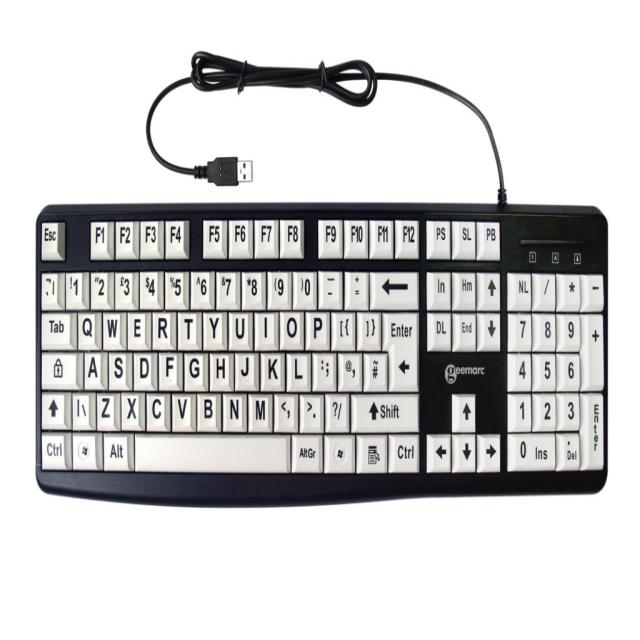clavier: (32, 193, 624, 501)
